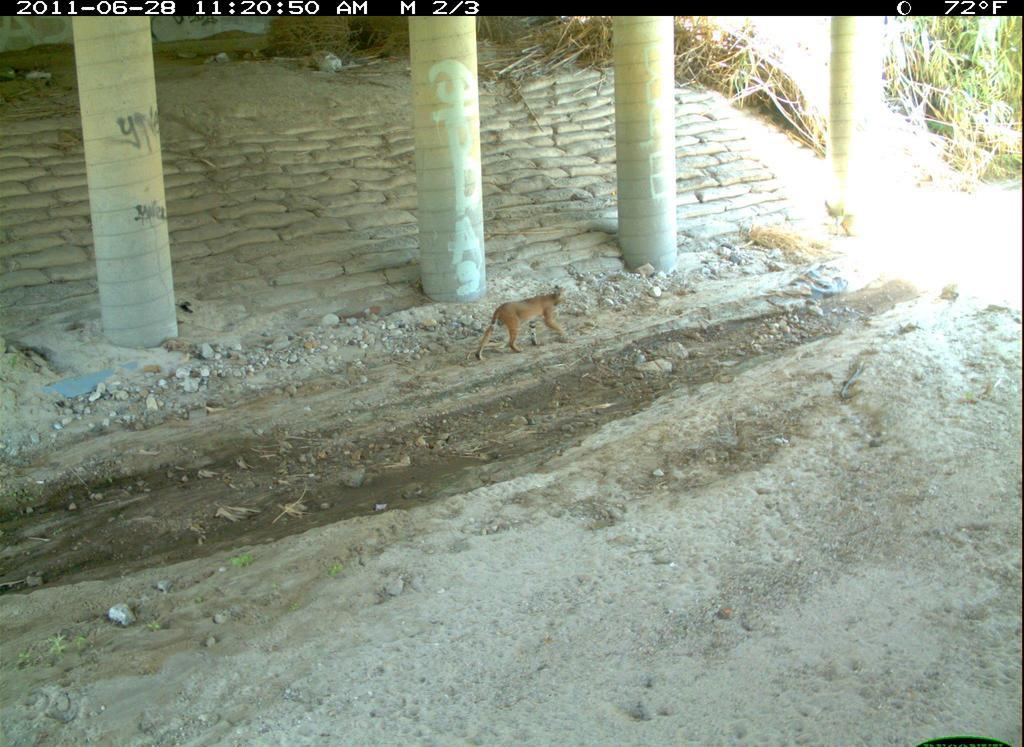bobcat: (940, 564, 1024, 735)
